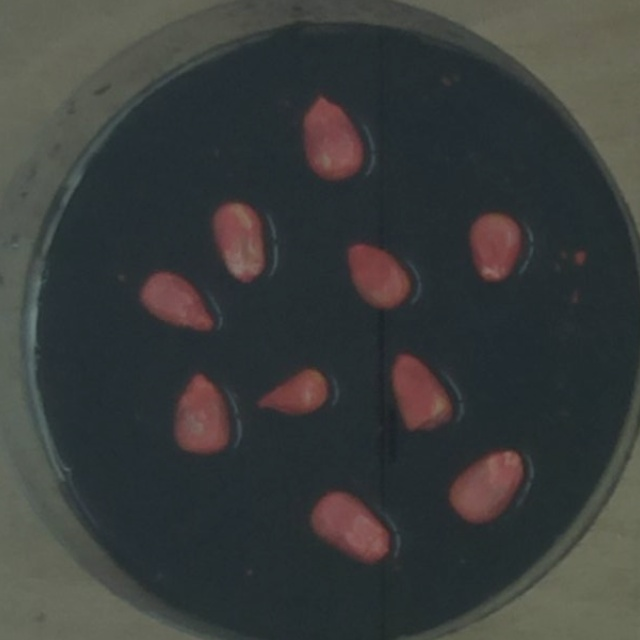Zea mays: (441, 443, 533, 533), (302, 485, 397, 572), (295, 89, 373, 187), (165, 366, 239, 463), (201, 194, 275, 289), (386, 347, 458, 440), (340, 235, 421, 317), (132, 265, 221, 339), (460, 205, 530, 289), (250, 360, 335, 424)
